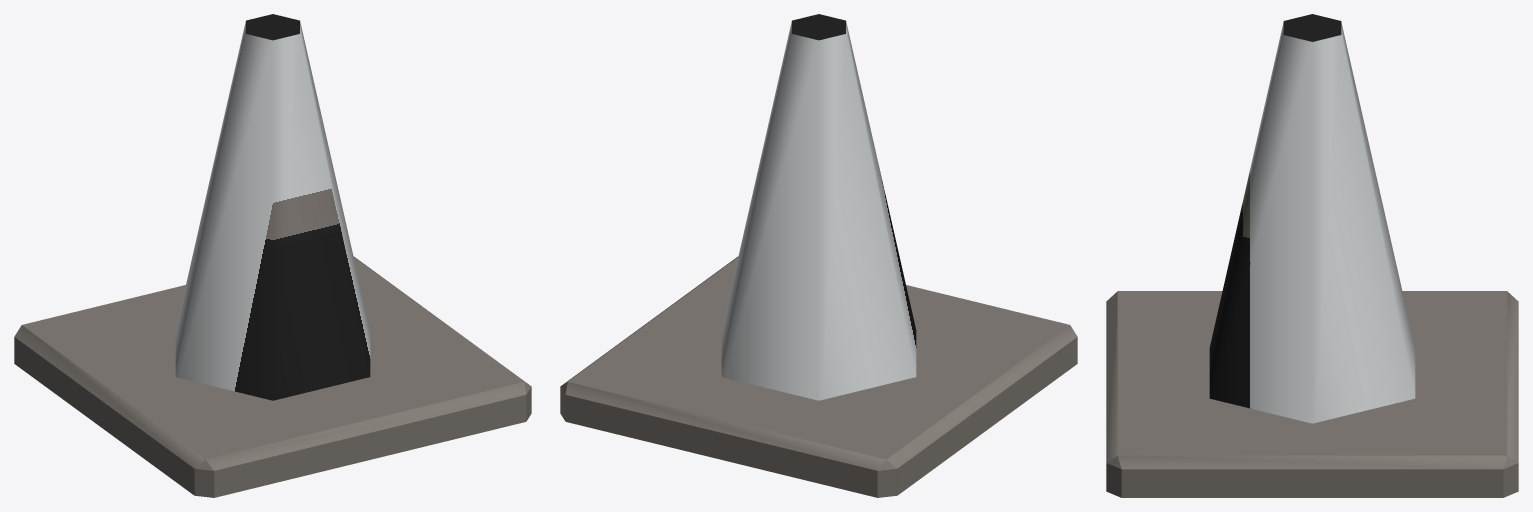
File: Ban chong 2.fbx
3 views of the same model, side by side, from view 1: azimuth 30°, elevation 25°; view 2: azimuth 150°, elevation 25°; view 3: azimuth 270°, elevation 25° (orthographic). The views are drawn at different scales.
Parts seen in each view (by area): view 1: ban chong 2, mui chong 2; view 2: ban chong 2, mui chong 2; view 3: ban chong 2, mui chong 2.
Part boxes in pixels (x1=…): ban chong 2: x1=14, y1=256, x2=531, y2=497; mui chong 2: x1=175, y1=14, x2=370, y2=400; ban chong 2: x1=560, y1=256, x2=1077, y2=497; mui chong 2: x1=721, y1=14, x2=916, y2=400; ban chong 2: x1=1106, y1=291, x2=1518, y2=497; mui chong 2: x1=1209, y1=14, x2=1415, y2=423.
Bounding box in the file's own units: 300 × 307 × 300.
